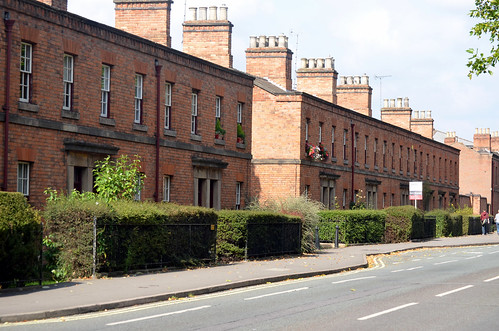building: (1, 9, 239, 209), (252, 33, 469, 215)
sidewalk: (1, 246, 377, 324)
sky: (282, 1, 489, 121)
street: (1, 243, 490, 331)
